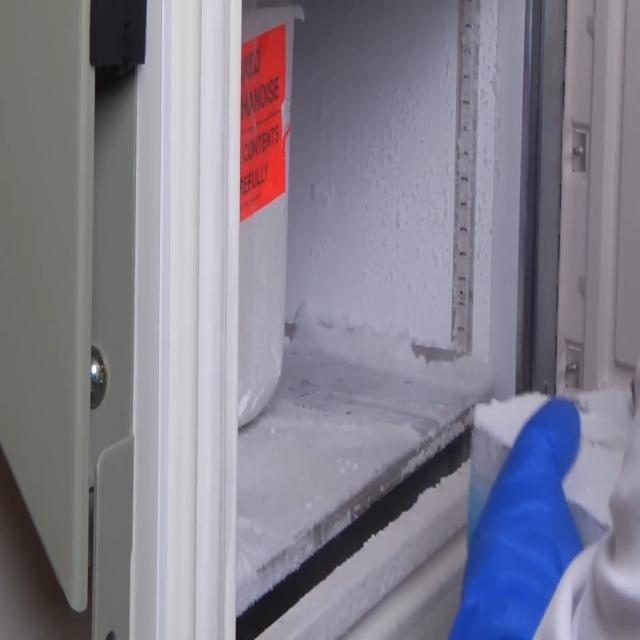labcoat: (522, 351, 640, 639)
